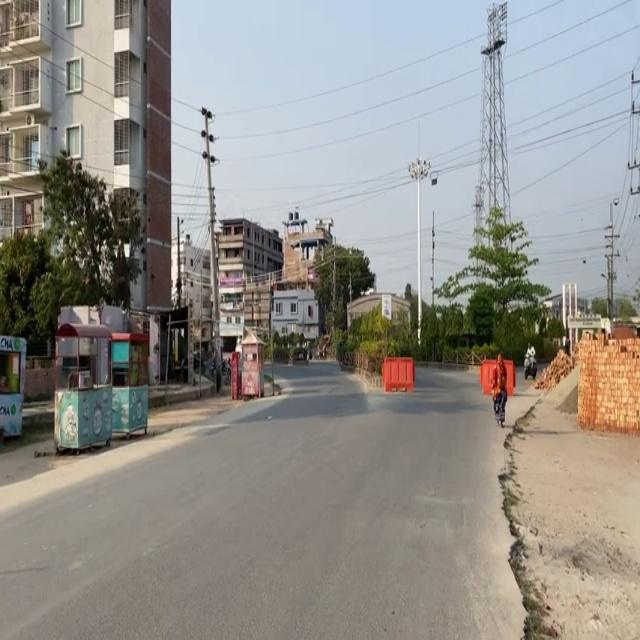Construction-barrier: (497, 387, 558, 639)
Downstairs: (42, 309, 165, 472), (234, 331, 266, 399)
Fallen-tree: (491, 386, 507, 427)
Garbage: (479, 358, 515, 396), (381, 356, 414, 392)
Garbage-bin: (523, 342, 536, 380)
Light-pole: (190, 108, 238, 404)
Pothole: (500, 362, 639, 639)
